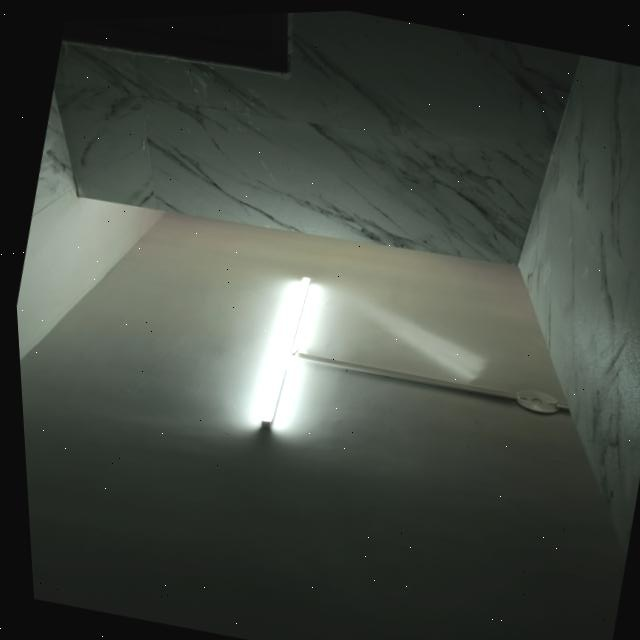fluorescent tube: (237, 262, 323, 436)
